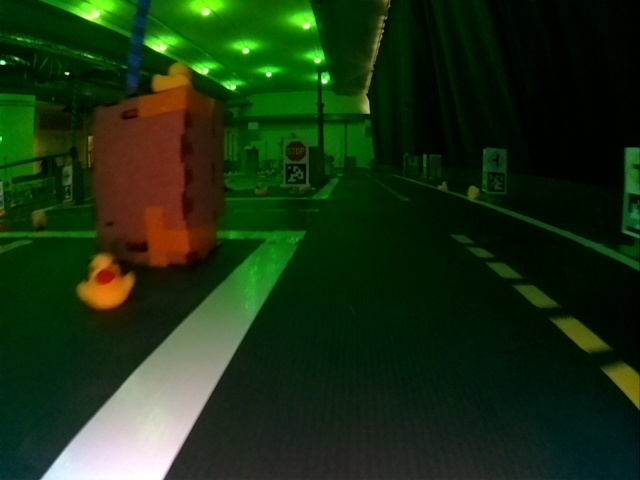Duckie: (77, 257, 134, 306), (152, 62, 191, 87), (468, 186, 479, 199), (254, 183, 268, 193), (439, 181, 445, 188)
Intersection sign: (486, 150, 506, 171)
QR code: (283, 163, 305, 186), (486, 172, 507, 193)
Stop sign: (284, 139, 306, 162)
